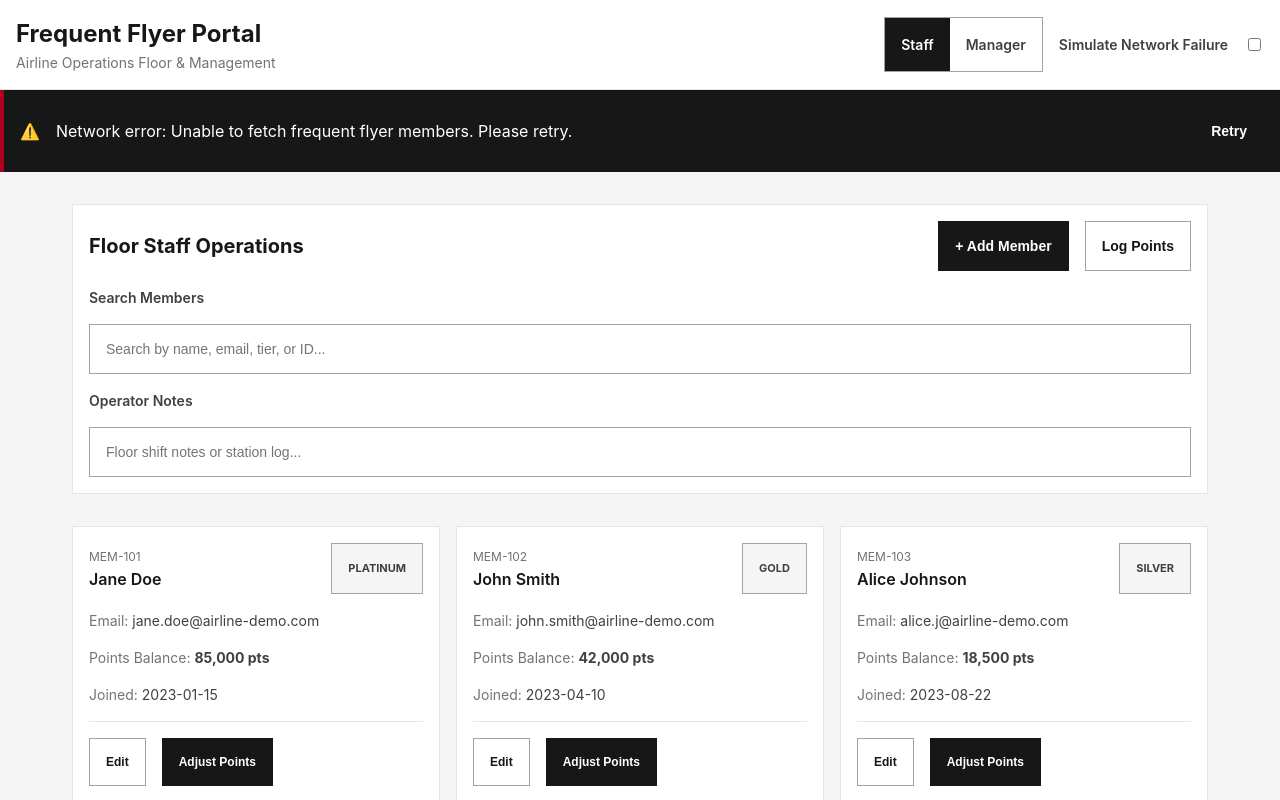
Modal Regression & Data-Integrity Tests › failed save persists nothing
This screenshot has width=1280, height=800.
// Open Add Member modal
Click the button "+ Add Member": (1003, 246) [938, 221, 1069, 271]
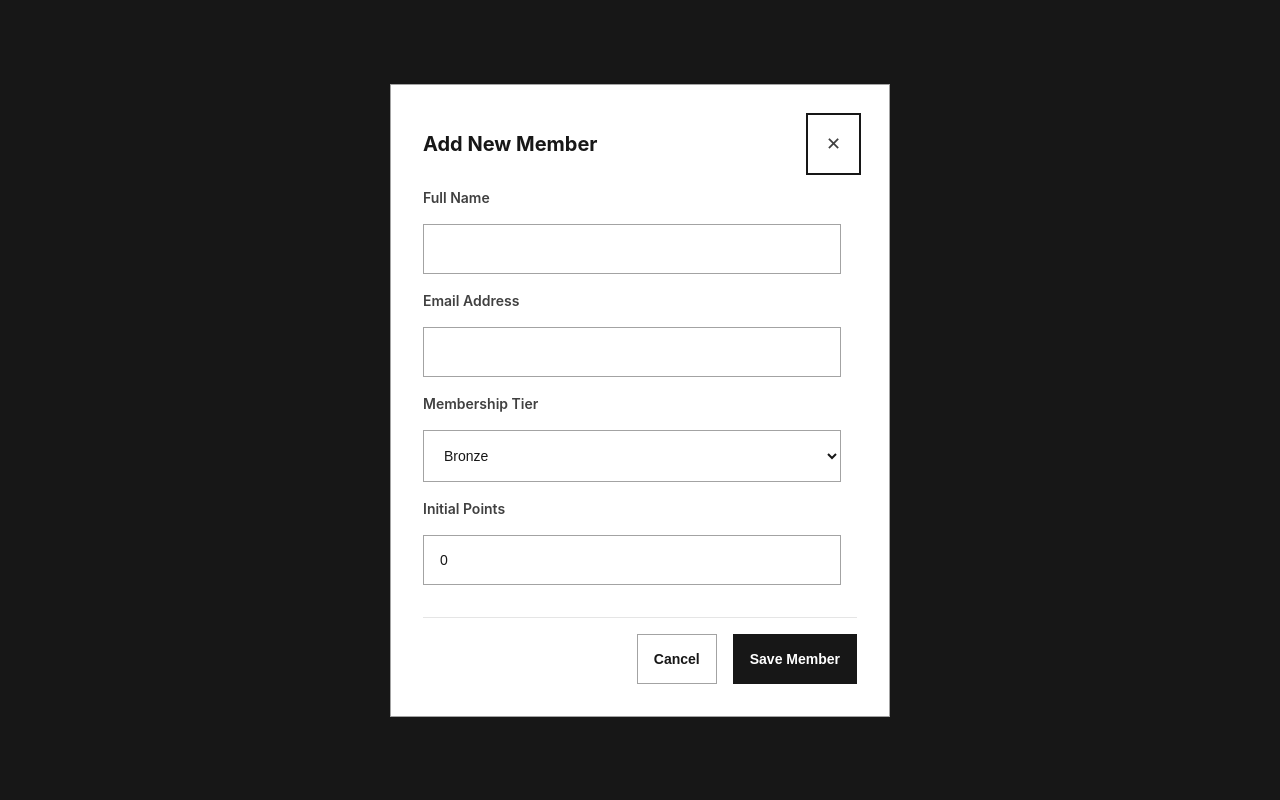
Result: the dialog is shown
// Fill in valid details
In the field labelled "Full Name": (632, 248) [423, 224, 841, 274], type "Arthur Dent"
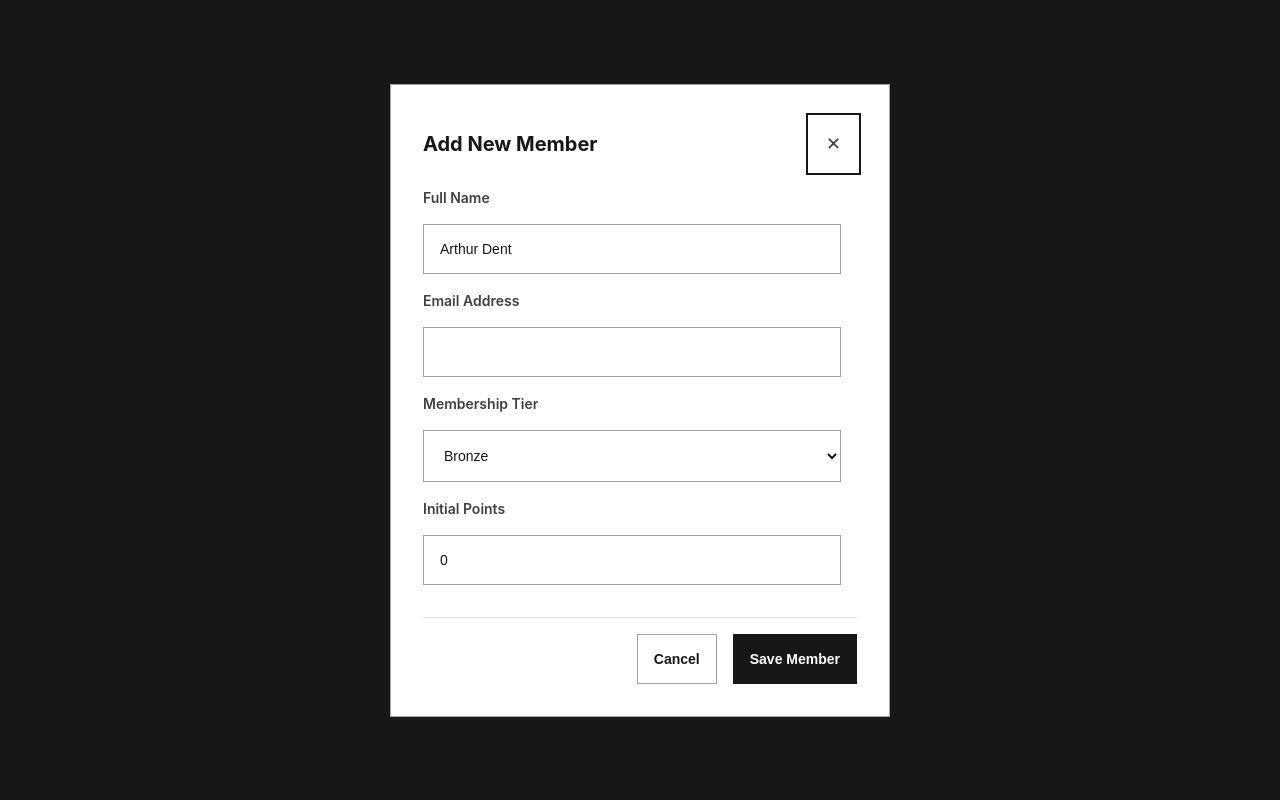
In the field labelled "Email Address": (632, 352) [423, 326, 841, 376], type "arthur@galaxy.com"
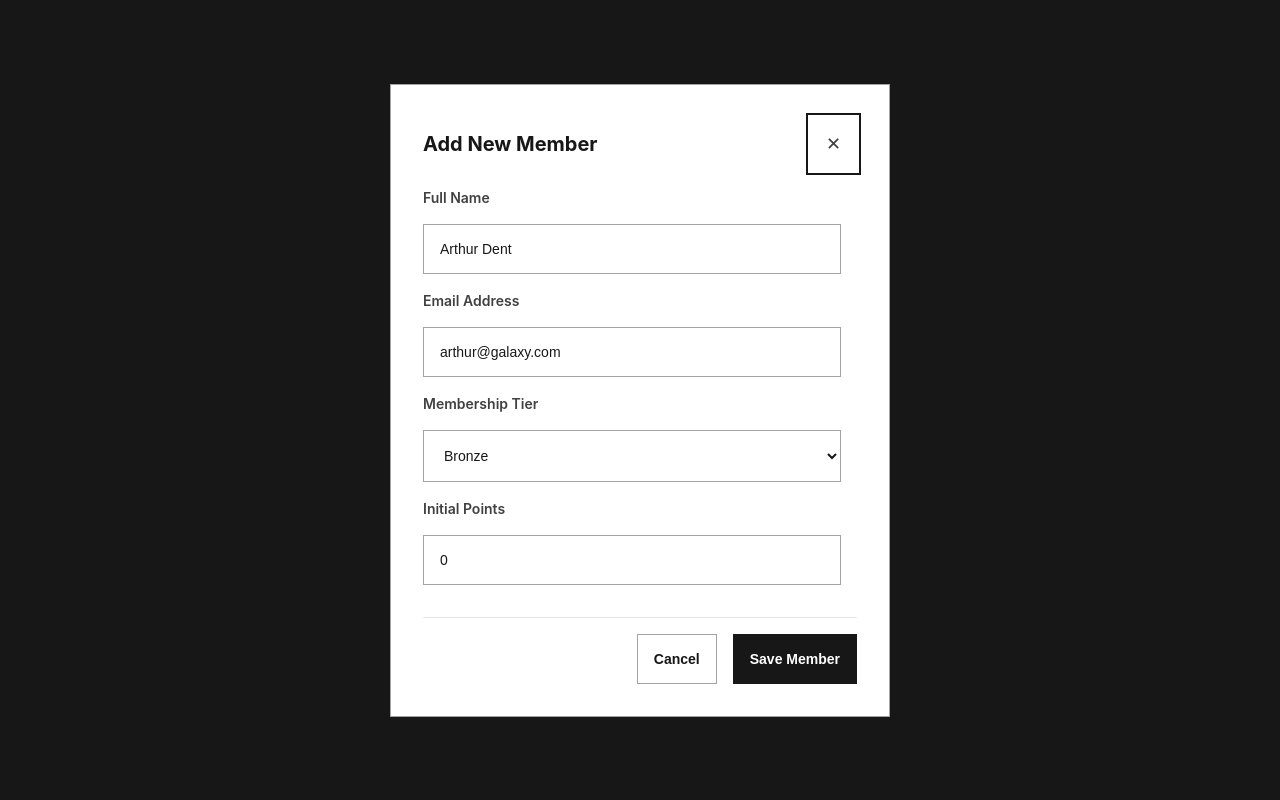
// Submit form
Click the button "Save Member": (795, 658) [733, 634, 857, 684]
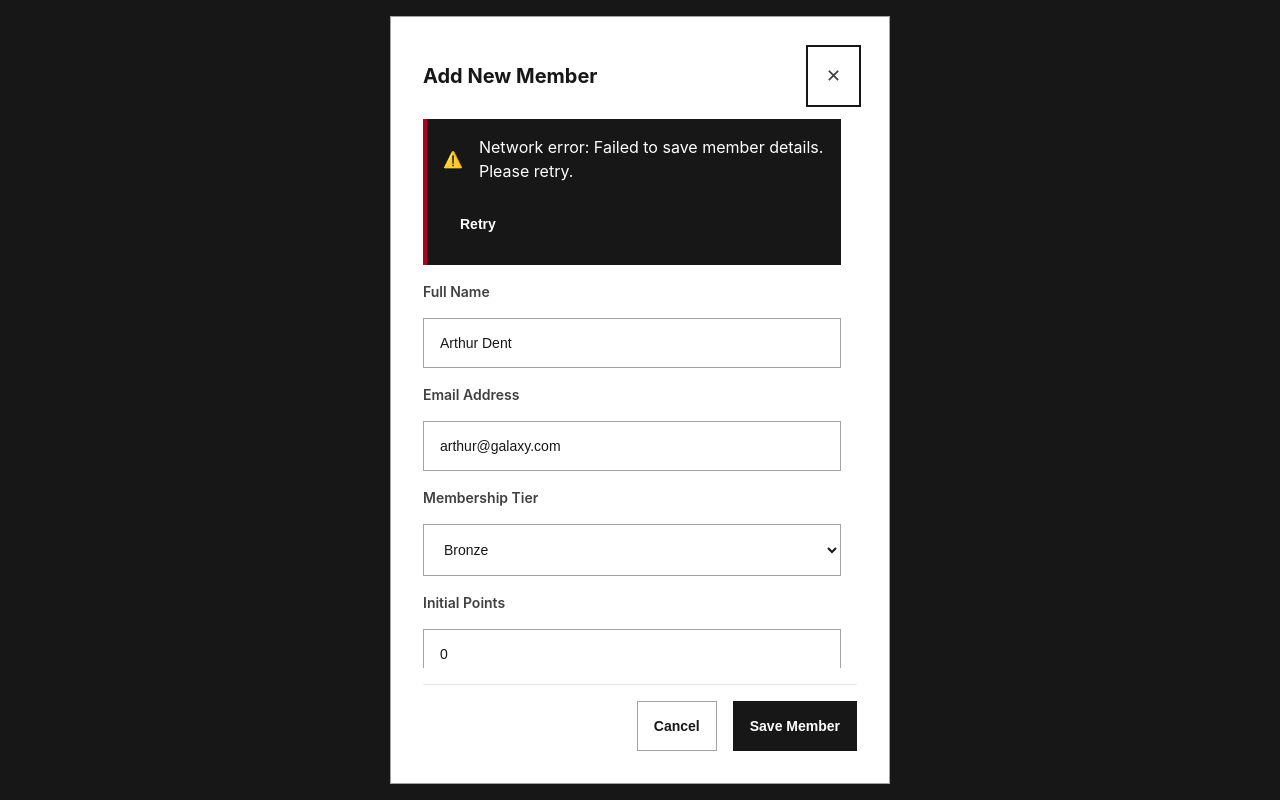
Result: the message reads "⚠️ Network error: Failed to save member details. Please retry. Retry" at [479, 137, 823, 181]
